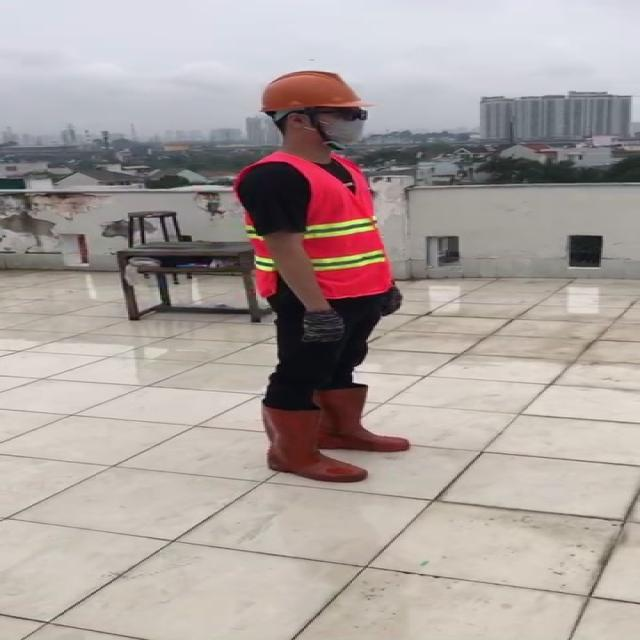boots: (260, 401, 368, 487), (326, 382, 412, 453)
